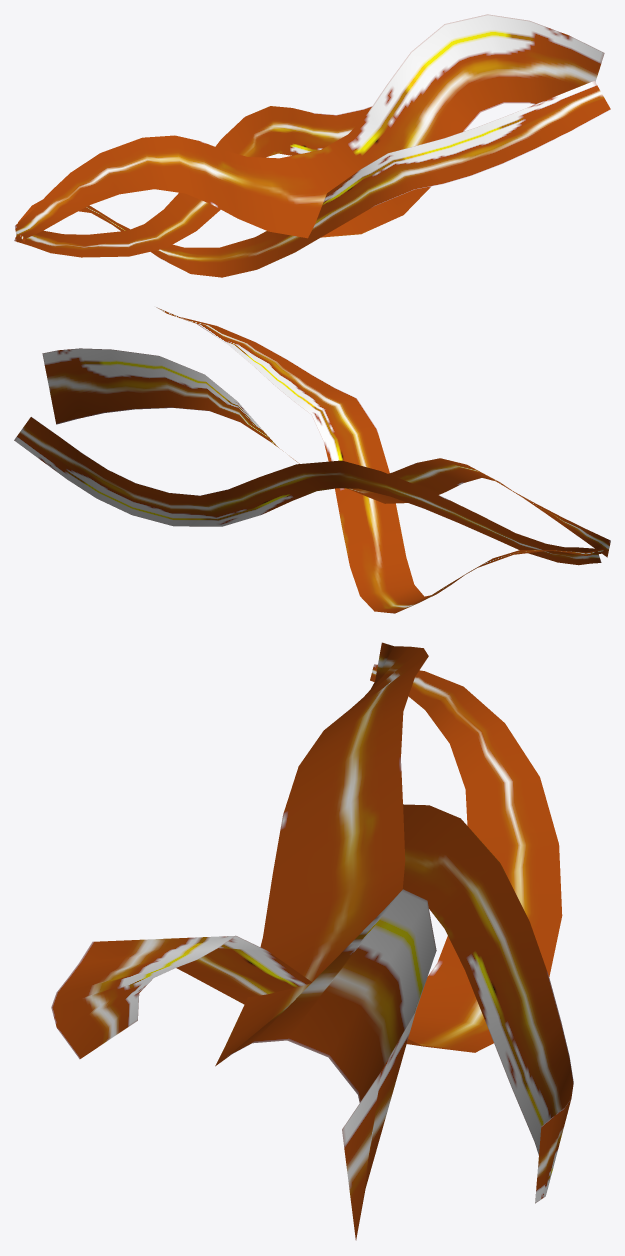
Rendered from M_tiaodai_0707.FBX.
3 renders of one model, top to bottom at view 1: azimuth 30°, elevation 25°; view 2: azimuth 150°, elevation 25°; view 3: azimuth 270°, elevation 25°, orthographic. The views are drawn at different scales.
Parts seen in each view (by area): view 1: Plane003; view 2: Plane003; view 3: Plane003.
Boxes of the visible parts, x1,y1,x2,y2 form: Plane003: [14, 14, 610, 277]; Plane003: [14, 307, 610, 613]; Plane003: [51, 642, 573, 1240].
Bounding box in the file's own units: 7.95 × 2.4 × 3.11.
